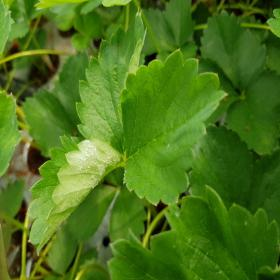Powdery Mildew Leaf: (25, 135, 125, 256)
